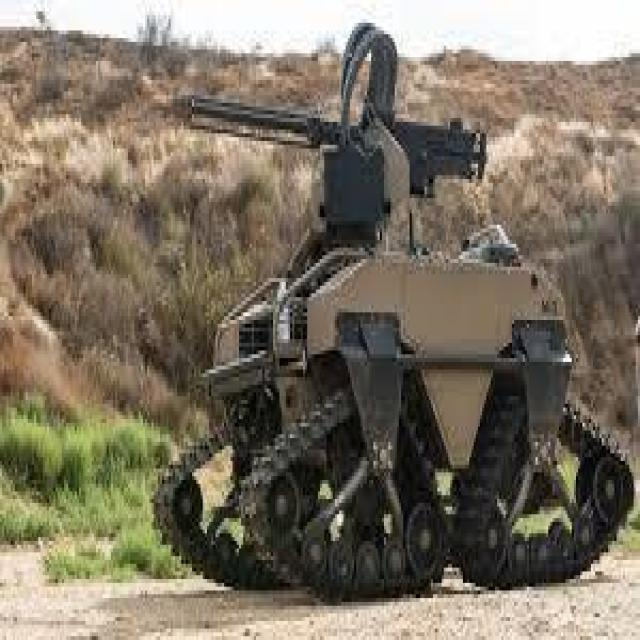MIL_MBT: (137, 40, 576, 604)
